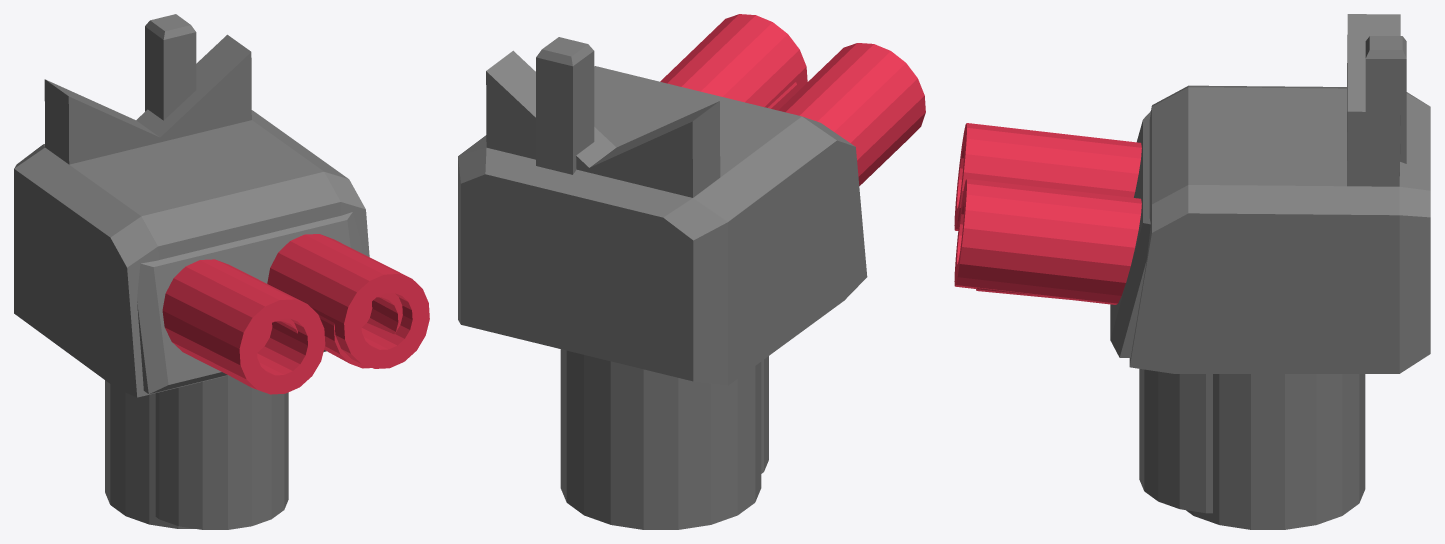
File: doubleturrets.fbx
3 renders of one model, left to right at view 1: azimuth 30°, elevation 25°; view 2: azimuth 150°, elevation 25°; view 3: azimuth 270°, elevation 25°, orthographic. The views are drawn at different scales.
Parts seen in each view (by area): view 1: DoubleHeavy, DoubleMed; view 2: DoubleHeavy, DoubleMed; view 3: DoubleHeavy, DoubleMed.
Part boxes in pixels (left/top/right/bottom): DoubleHeavy: left=14, top=34, right=429, bottom=528; DoubleMed: left=137, top=14, right=402, bottom=529; DoubleHeavy: left=458, top=14, right=925, bottom=529; DoubleMed: left=536, top=37, right=797, bottom=473; DoubleHeavy: left=954, top=14, right=1430, bottom=529; DoubleMed: left=976, top=36, right=1406, bottom=513.
Bounding box in the file's own units: 377 × 637 × 593.
